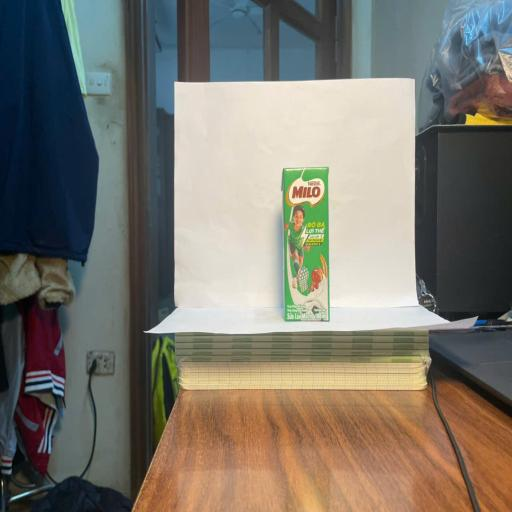milo: (282, 166, 330, 322)
